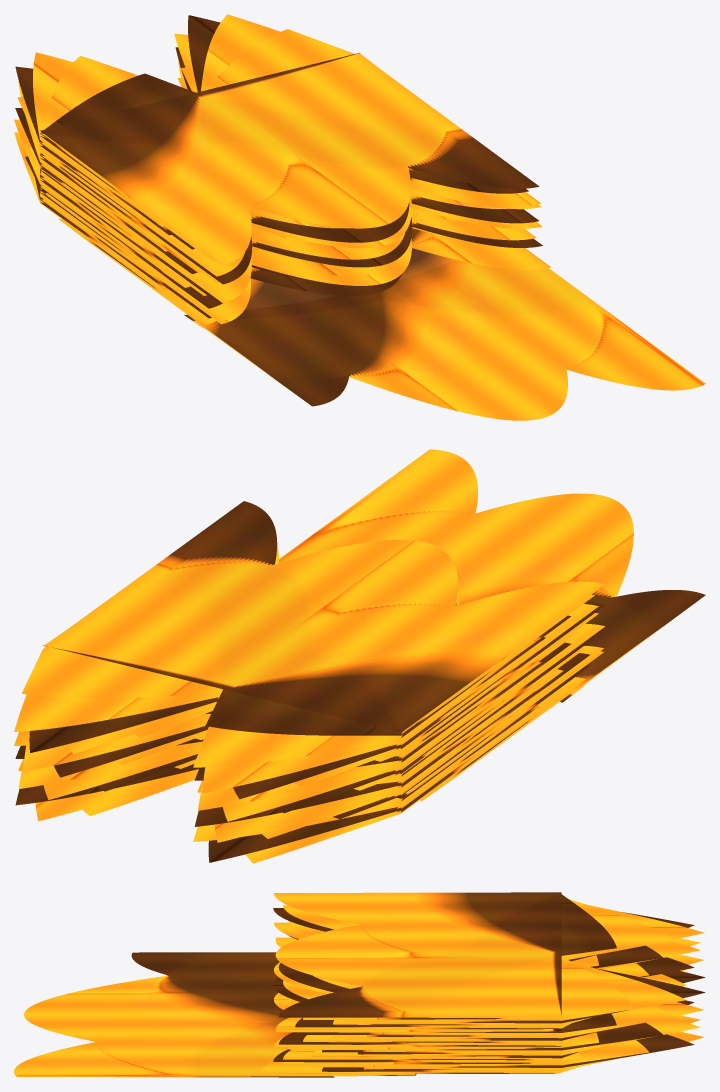
File: ai_reinforcement_qlearning_solid_fallback_1768134075330 (1).glb
3 renders of one model, top to bottom at view 1: azimuth 30°, elevation 25°; view 2: azimuth 150°, elevation 25°; view 3: azimuth 270°, elevation 25°, orthographic. The views are drawn at different scales.
Parts seen in each view (by area): view 1: MathShape; view 2: MathShape; view 3: MathShape.
Boxes of the visible parts, x1,y1,x2,y2 form: MathShape: [14, 14, 705, 420]; MathShape: [14, 449, 705, 863]; MathShape: [14, 892, 705, 1077].
Size of the model in its own units: 1 by 0.235 by 2.37.
Materials: 1 (1 with a texture image).
